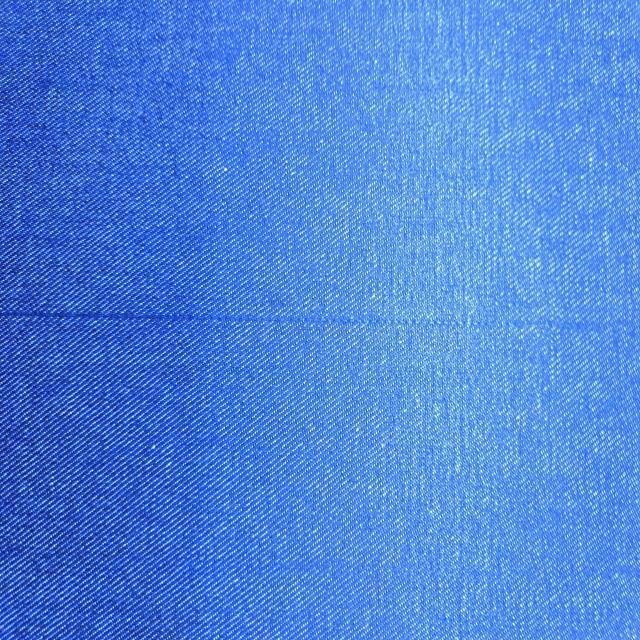Line: (0, 310, 619, 329)
